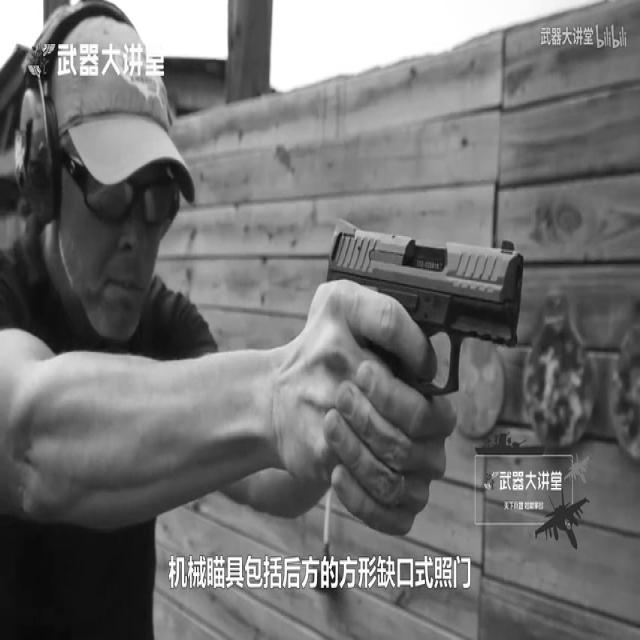Hand-Gun: (314, 200, 533, 520)
